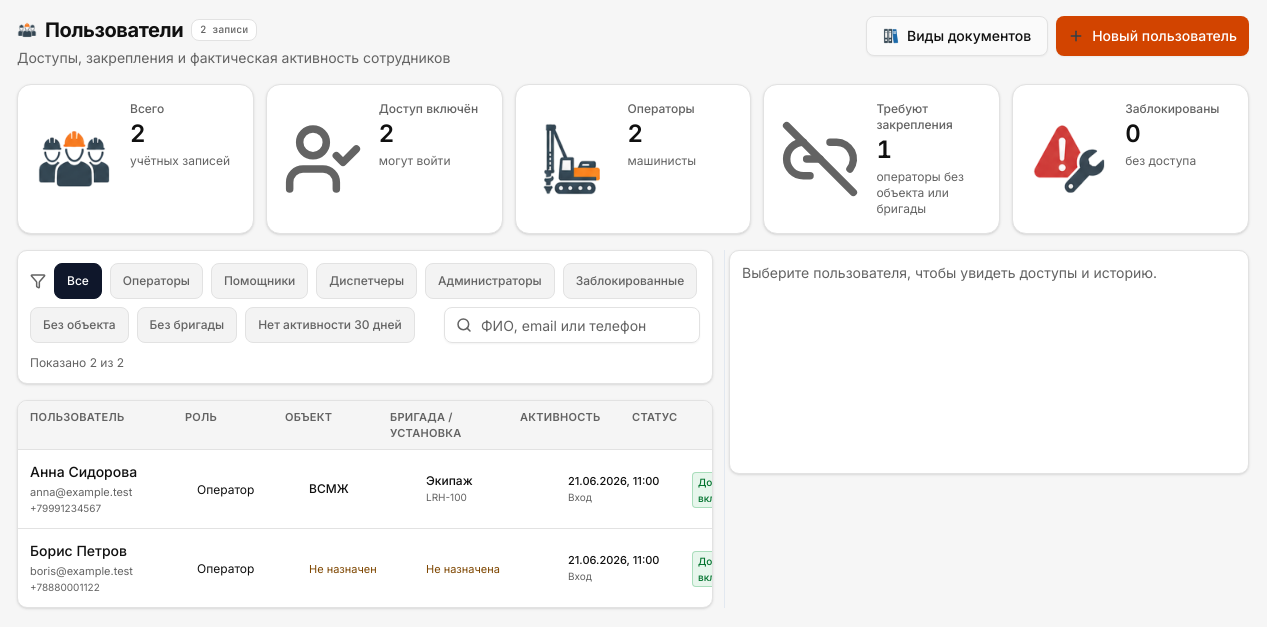
Test case: AdminUsers › searches by phone
The image size is (1267, 627).
Step 1. Type "8880001122" into the field with placeholder "ФИО, email или телефон" → [572, 325], box [444,307,700,343]
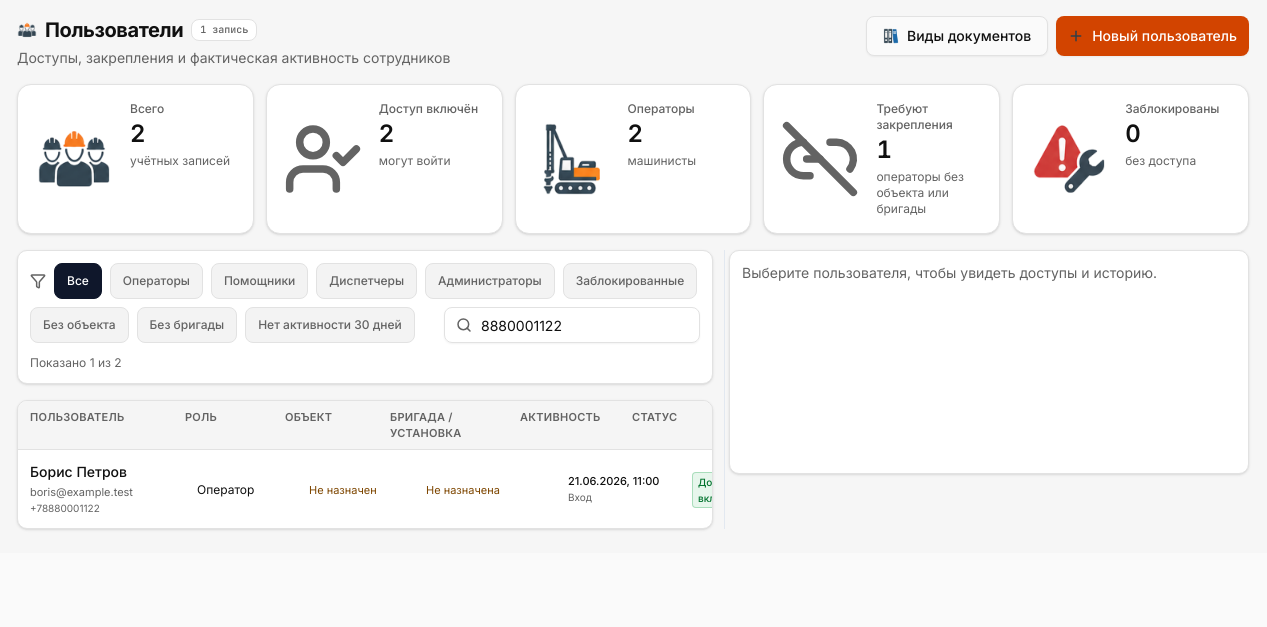
Result: the button "Анна Сидорова" is gone
